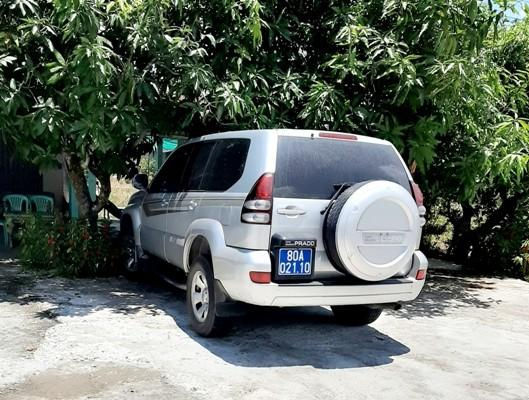plate: (275, 246, 314, 278)
